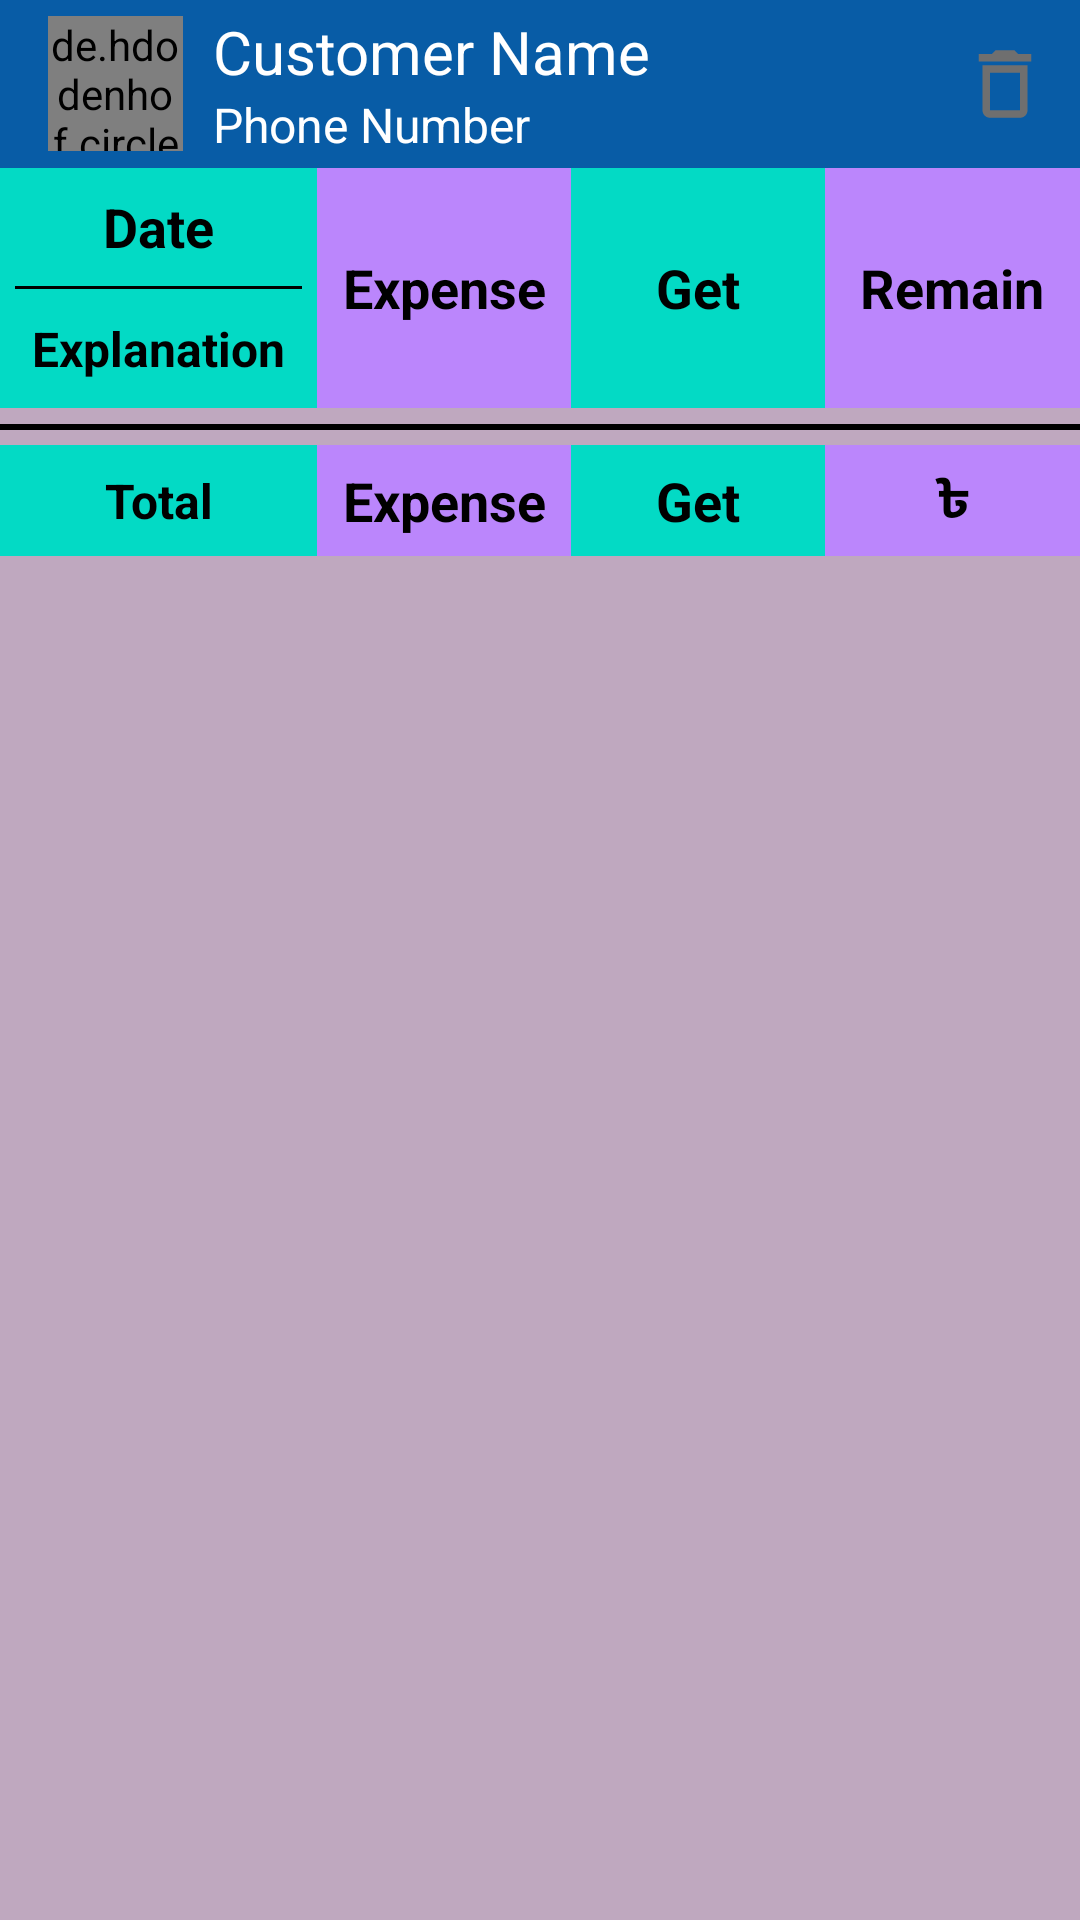

Icons on this 1080px x 1920px Android screen, each with its box as (x1, y1, x2, y2):
delete: (978, 50, 1032, 118)
